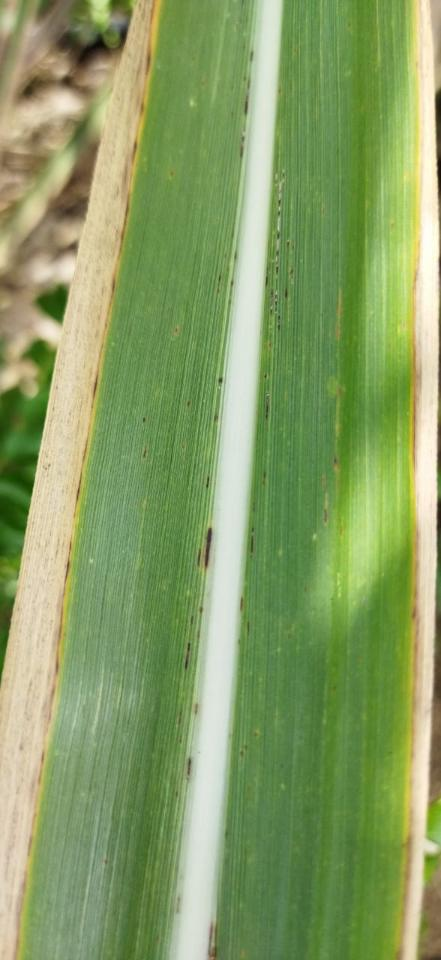Rust: (274, 181, 283, 316), (203, 526, 214, 570), (242, 76, 252, 116), (183, 641, 192, 671), (239, 126, 247, 158), (249, 524, 256, 554), (194, 547, 203, 569), (265, 391, 271, 421), (186, 757, 192, 781), (174, 895, 181, 914), (264, 266, 269, 289), (205, 475, 212, 490), (193, 701, 200, 716), (269, 290, 273, 316), (323, 507, 329, 523), (141, 449, 148, 459), (239, 597, 243, 613), (246, 621, 250, 637), (277, 315, 281, 331), (217, 376, 224, 385), (188, 616, 195, 624), (185, 399, 191, 408), (284, 287, 288, 300), (141, 417, 147, 425), (198, 606, 204, 613), (196, 629, 200, 637)
Yellow: (0, 0, 160, 959), (394, 0, 438, 959)
